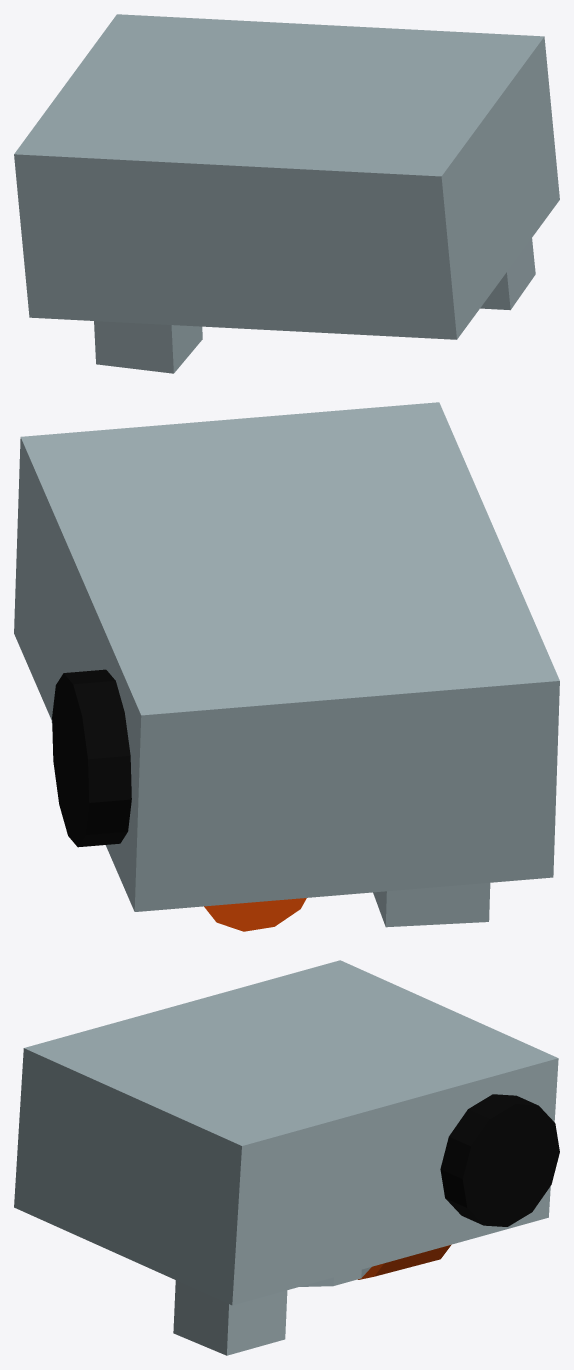
The model's file is rover_head.obj.
The picture shows the model from 3 angles, top to bottom: view 1: azimuth 30°, elevation 25°; view 2: azimuth 150°, elevation 25°; view 3: azimuth 270°, elevation 25°; orthographic projection. The views are drawn at different scales.
Bounding box in the file's own units: 0.408 × 0.2041 × 0.4134.
